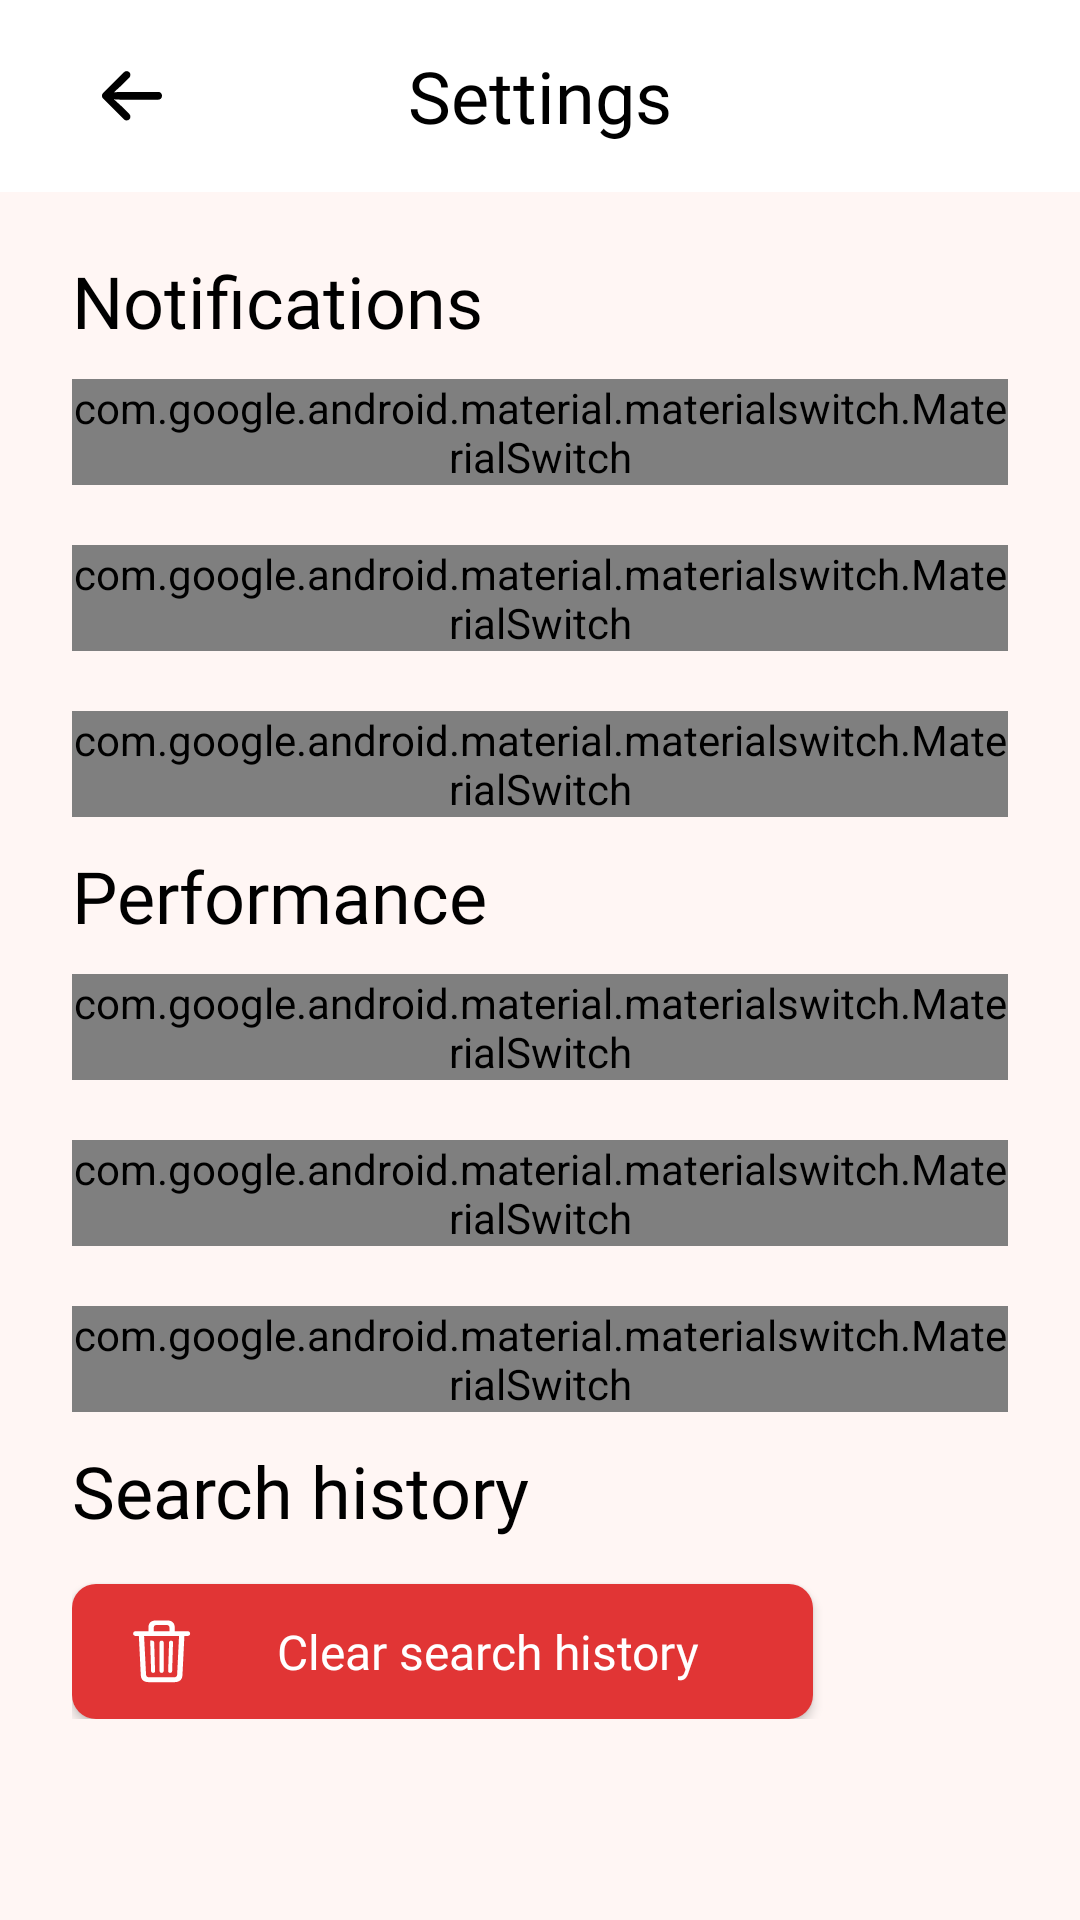

Named icons in this screenshot (1080*1920) and their centers, point (x, y):
back arrow: point (132, 96)
